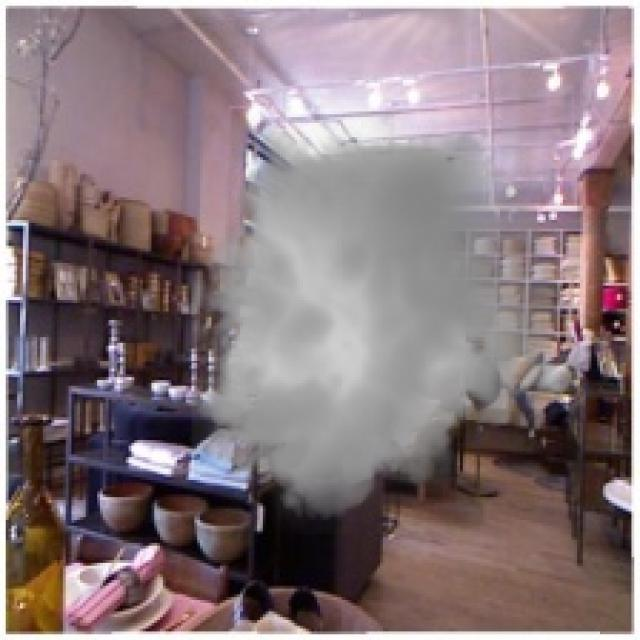Smoke: (174, 111, 572, 534)
